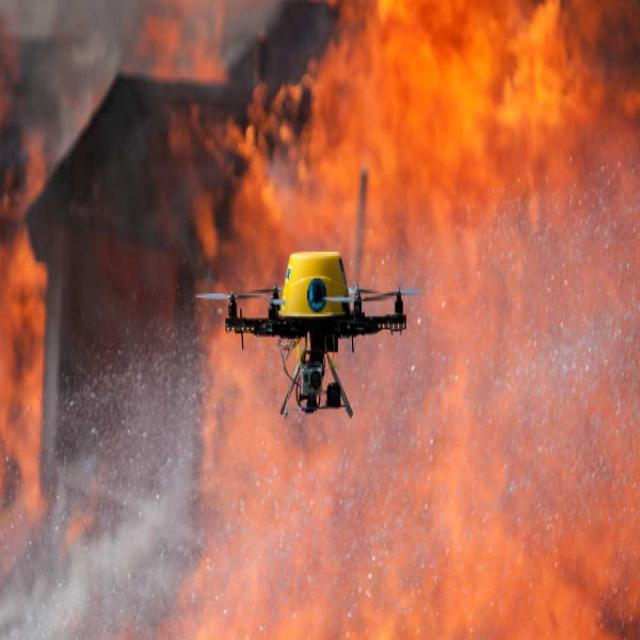drone: (192, 240, 426, 422)
